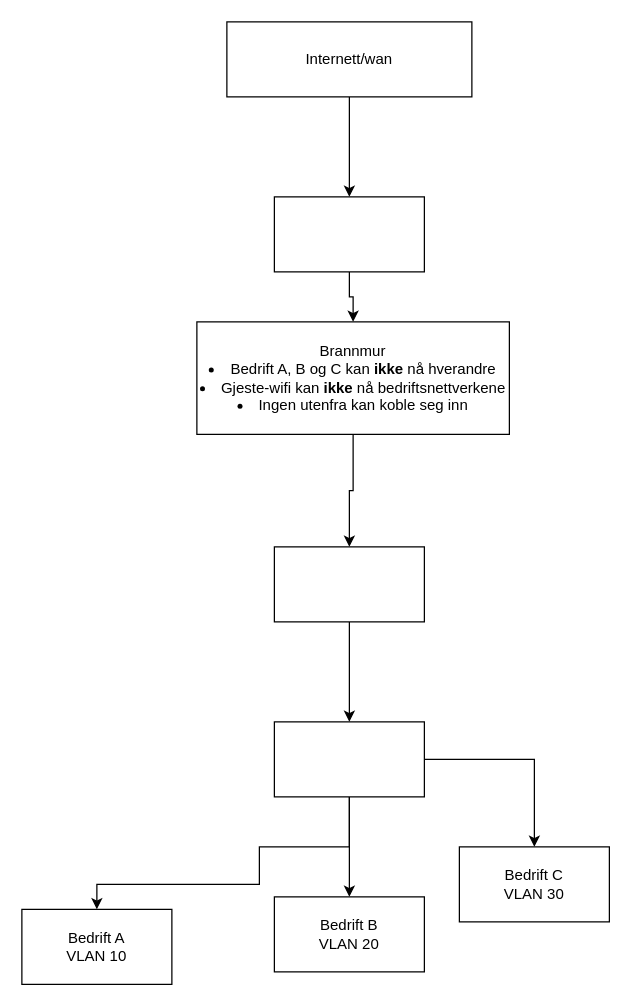
The diagram is 631 pixels wide and 1006 high, and some of its shapes have lost their labels. The centre of each missing label's shape, as x and y in pixels:
"ISP- modem" belongs at [348,234].
"Managed switch" belongs at [348,759].
"router" belongs at [348,584].
